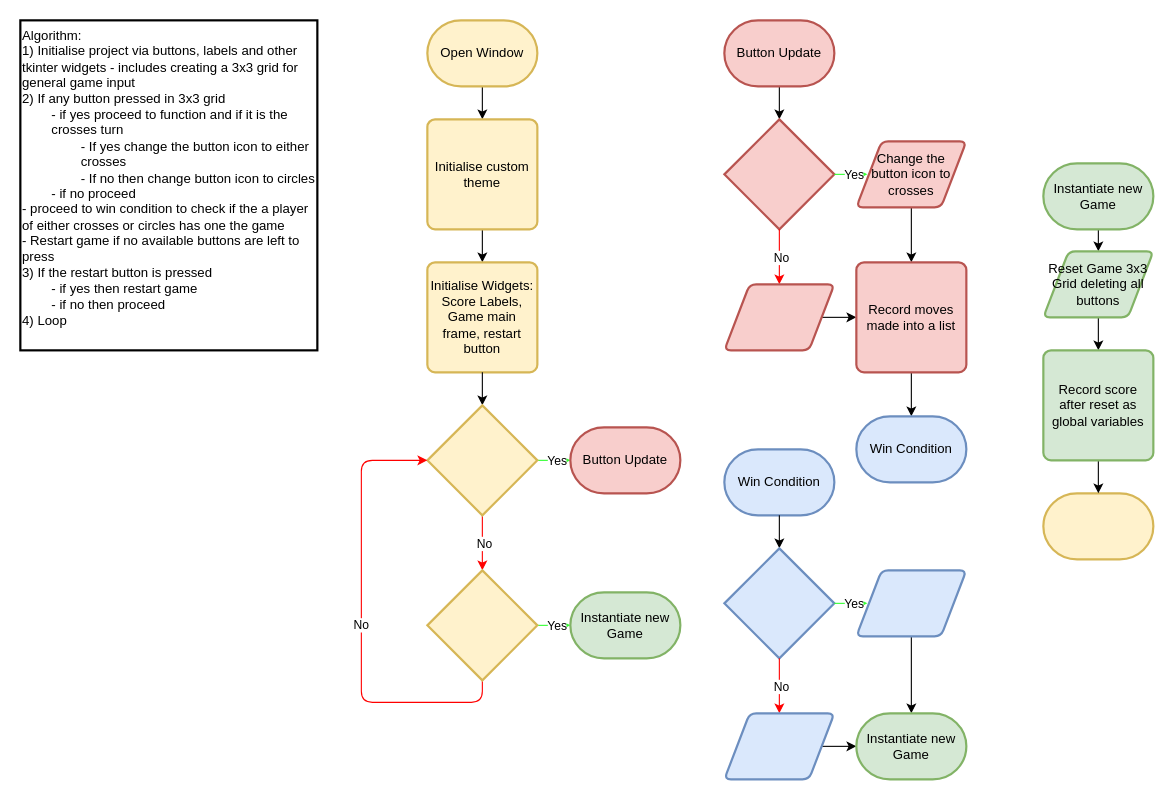
This 1173x799 diagram has some shape labels left out. The shapes that lost their labels are listed below. From the top down, each one's centre as x and y in pixels, then its label:
the point at 779,174: if the turn is in favour of crosses
the point at 779,317: Change the button icon to circles
the point at 482,460: if any button is pressed in the 3x3 grid
the point at 1098,526: Return
the point at 779,603: if moves recorded is suffiicient to win
the point at 911,603: Add to respective score
the point at 482,625: if the restart button is pressed
the point at 779,746: Add to tie system since no more moves left with no winner
